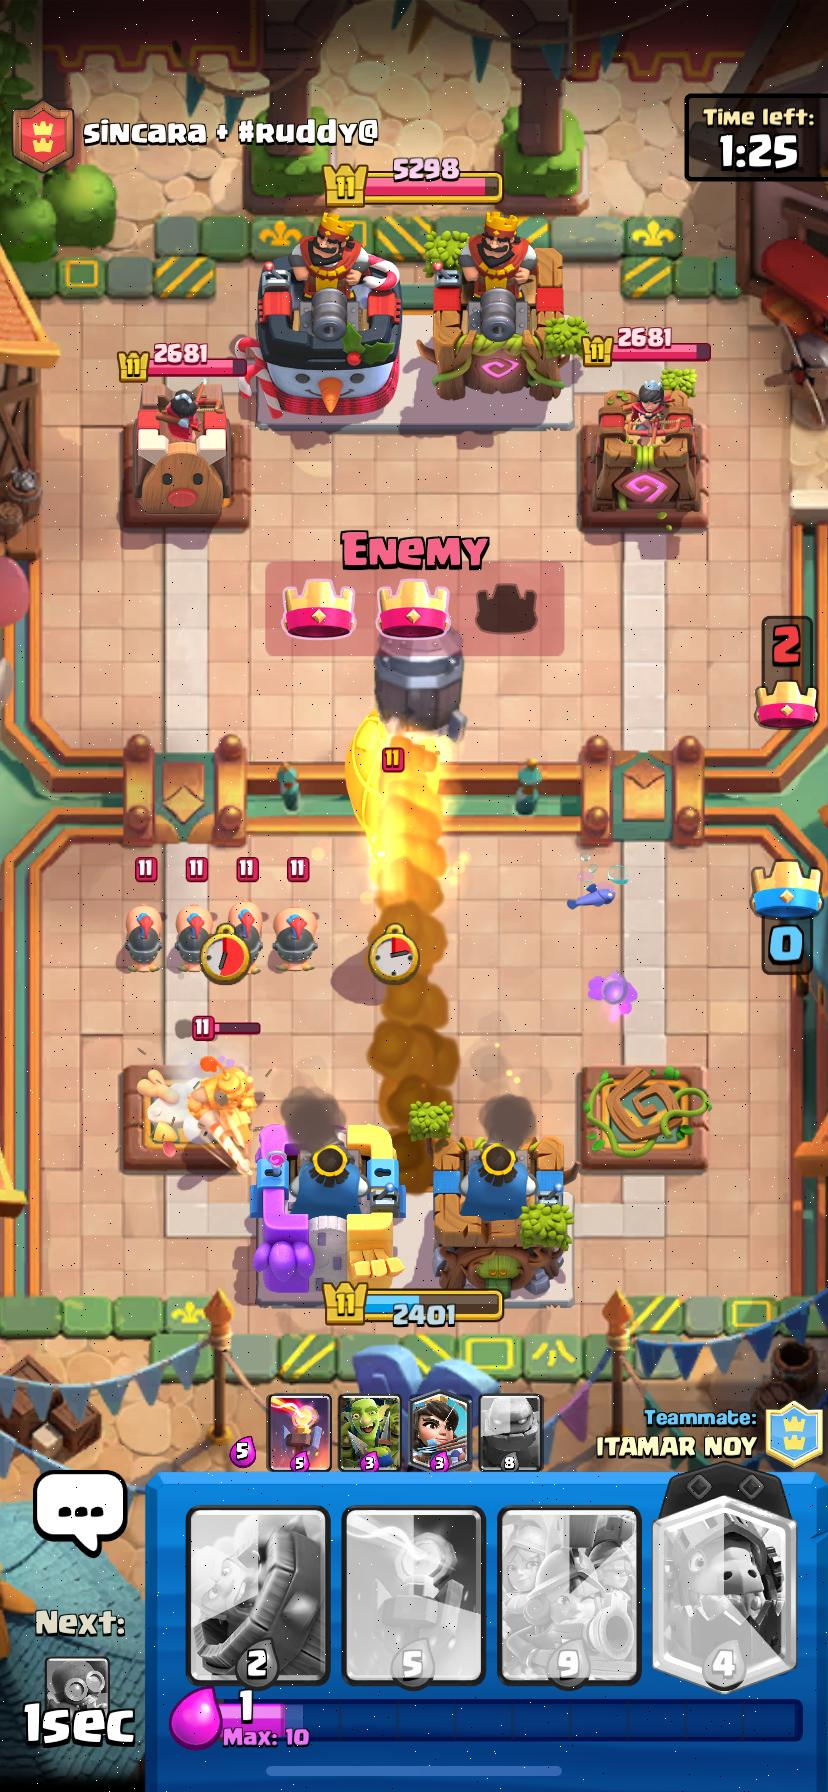EKingTower: (256, 213, 401, 424), (433, 213, 574, 401)
EPrince: (188, 1056, 256, 1175)
ERoyalHog: (269, 907, 317, 970), (174, 904, 214, 971), (124, 905, 162, 971), (226, 902, 262, 971)
EnemyPrincessTower: (580, 381, 704, 528), (133, 382, 231, 521)
ORocket: (374, 626, 464, 739)
OwnKingTower: (250, 1126, 405, 1299), (433, 1136, 573, 1295)
TowerDown: (579, 1066, 709, 1169), (122, 1059, 200, 1174)
